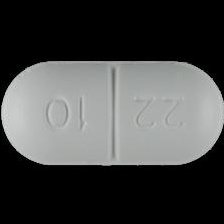51655-031: (0, 0, 224, 224)
